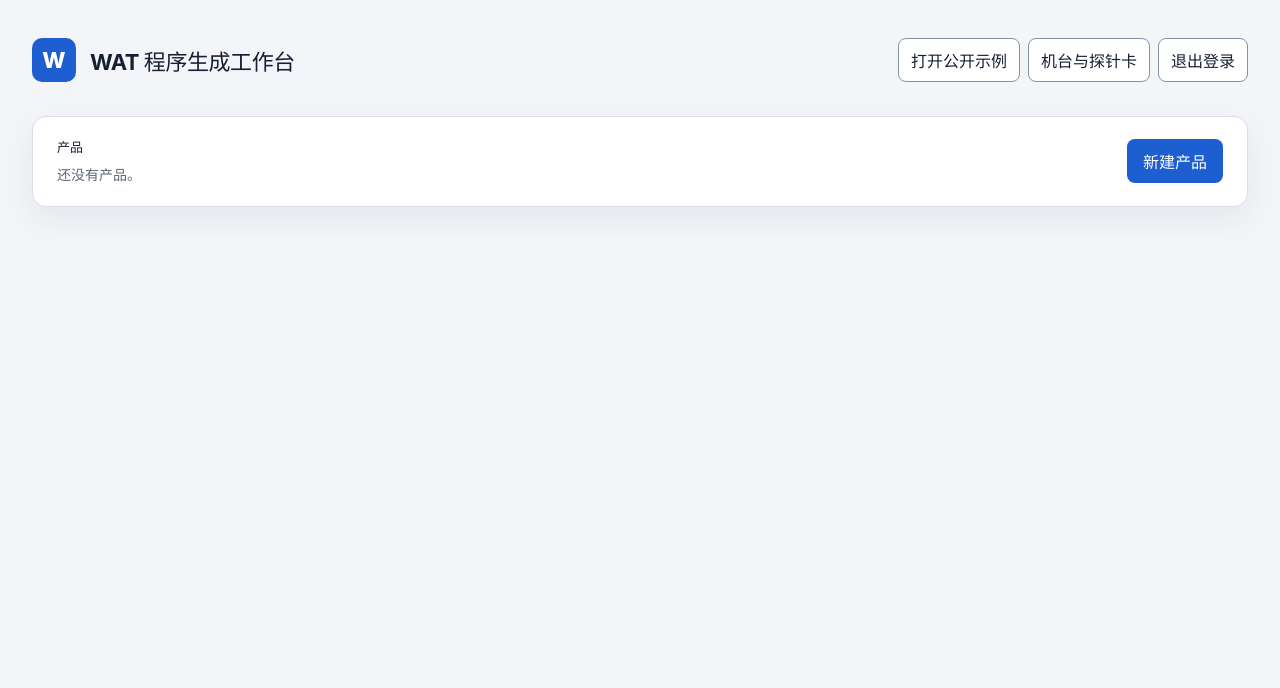
it: WAT pilot › generates a reviewable package and keeps tester deployment visibly locked
The width and height of the screenshot is (1280, 688).
Click the button "打开公开示例". click: (959, 60)
box: [898, 38, 1020, 82]
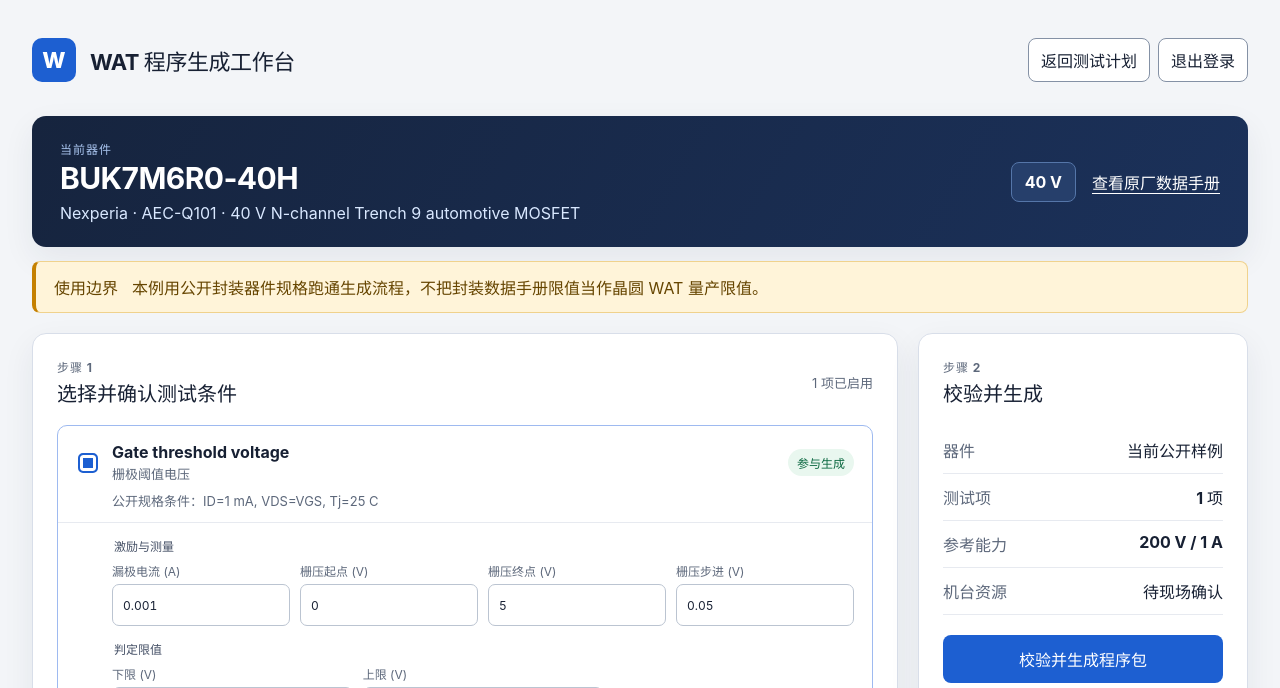
Result: the heading "BUK7M6R0-40H" is shown at [60, 160, 298, 196]
Click the button "校验并生成程序包". click: (1083, 659)
box: [943, 635, 1223, 683]
(page scrolled)
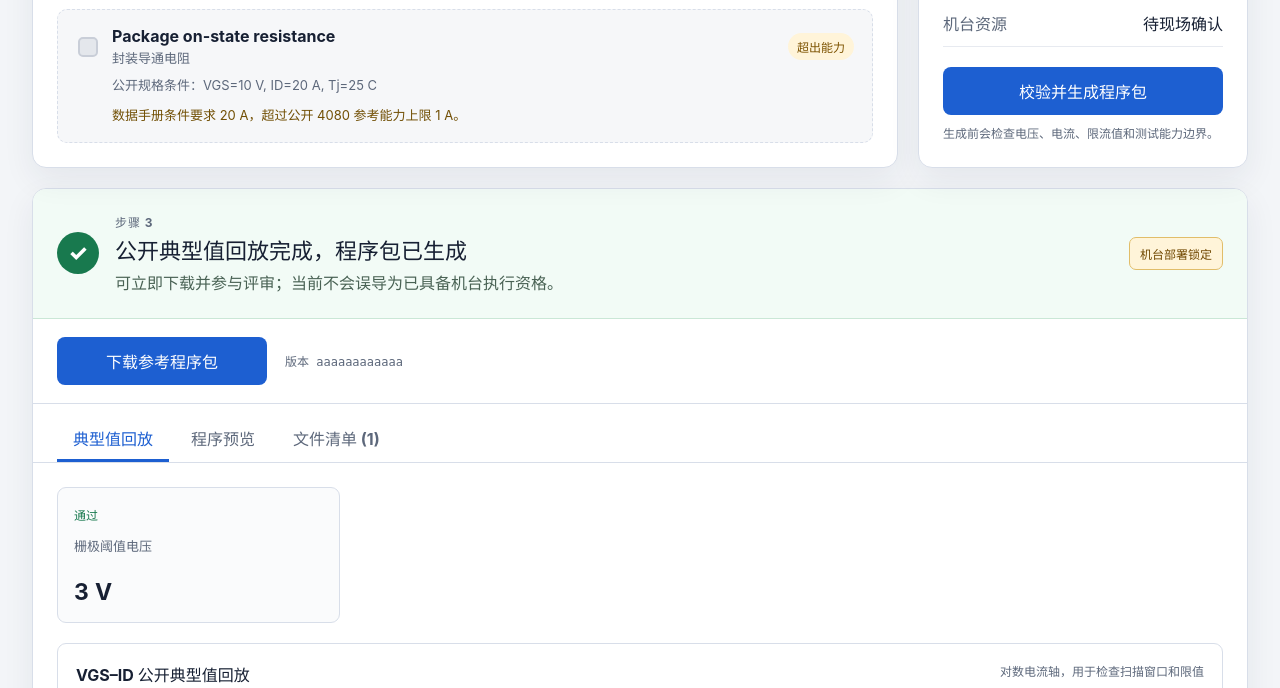
Result: the heading "公开典型值回放完成，程序包已生成" is shown at [115, 238, 467, 264]
Result: the text "机台部署锁定" is shown at [1129, 236, 1223, 270]
Result: the text "3 V" is shown at [74, 578, 112, 606]
